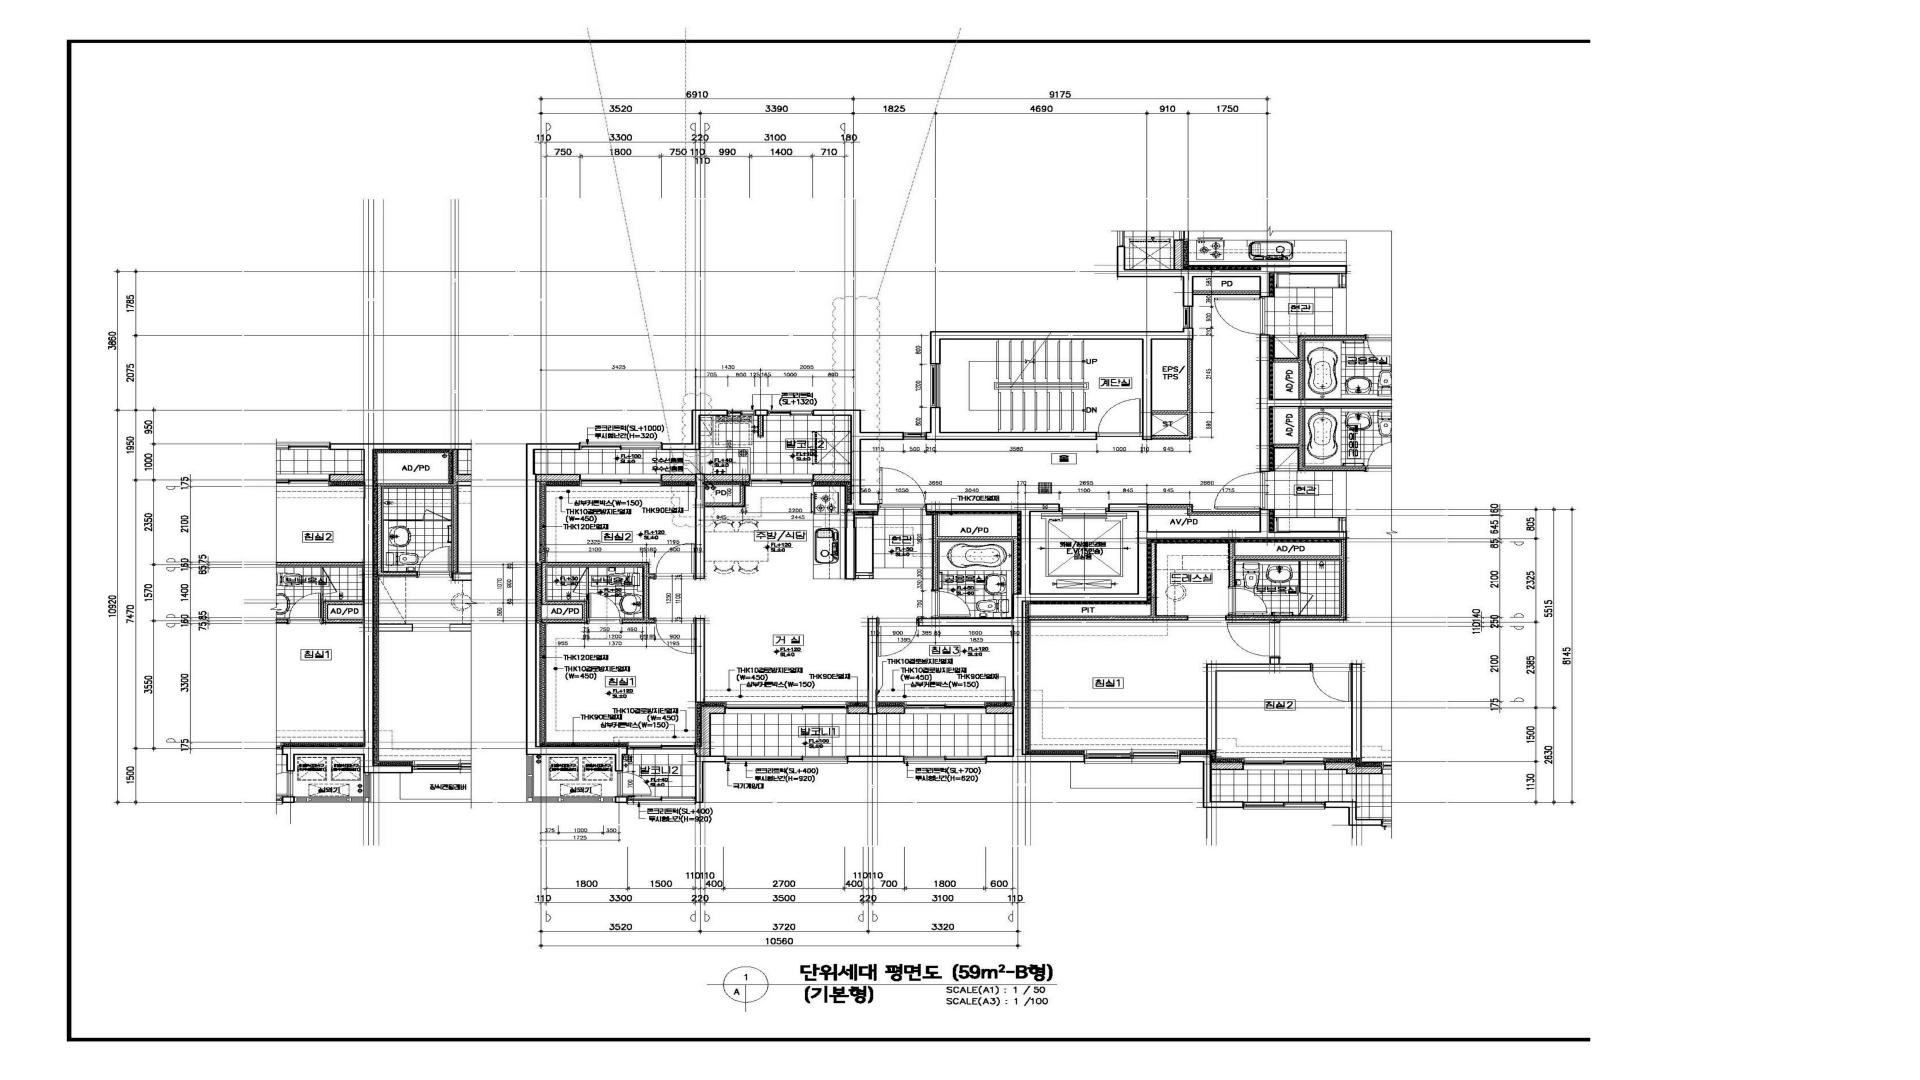door: (878, 467, 926, 508), (1096, 398, 1142, 436), (877, 617, 919, 657), (655, 618, 695, 654), (655, 543, 695, 579), (931, 591, 971, 617), (588, 593, 622, 624), (617, 771, 651, 796)
wall: (918, 504, 1270, 762), (526, 443, 628, 771), (930, 328, 1193, 440), (812, 409, 903, 580), (661, 473, 750, 579), (541, 562, 655, 624), (932, 514, 1018, 593), (926, 407, 1097, 440), (848, 618, 905, 713), (1153, 340, 1193, 439), (1183, 269, 1270, 307), (662, 409, 728, 450), (695, 705, 725, 756), (1259, 334, 1270, 472), (695, 756, 725, 803), (1149, 504, 1259, 516), (695, 618, 705, 703), (537, 473, 580, 483), (848, 756, 903, 762), (812, 473, 851, 483), (1193, 290, 1259, 295), (986, 705, 1013, 715), (757, 415, 764, 438), (615, 796, 626, 803), (754, 410, 769, 415)
window: (526, 756, 615, 803), (725, 702, 848, 713), (580, 473, 662, 487), (725, 756, 848, 764), (905, 702, 986, 713), (628, 742, 695, 756), (750, 473, 812, 487), (579, 442, 662, 450), (903, 756, 986, 764), (626, 796, 695, 804), (930, 364, 942, 407), (767, 409, 812, 415), (1183, 307, 1193, 328), (903, 433, 926, 440), (728, 409, 754, 415)
